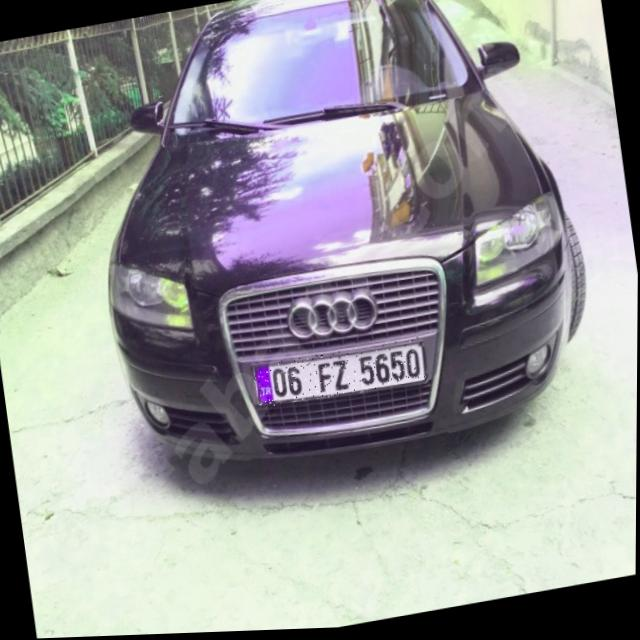license_plate: (254, 340, 428, 412)
